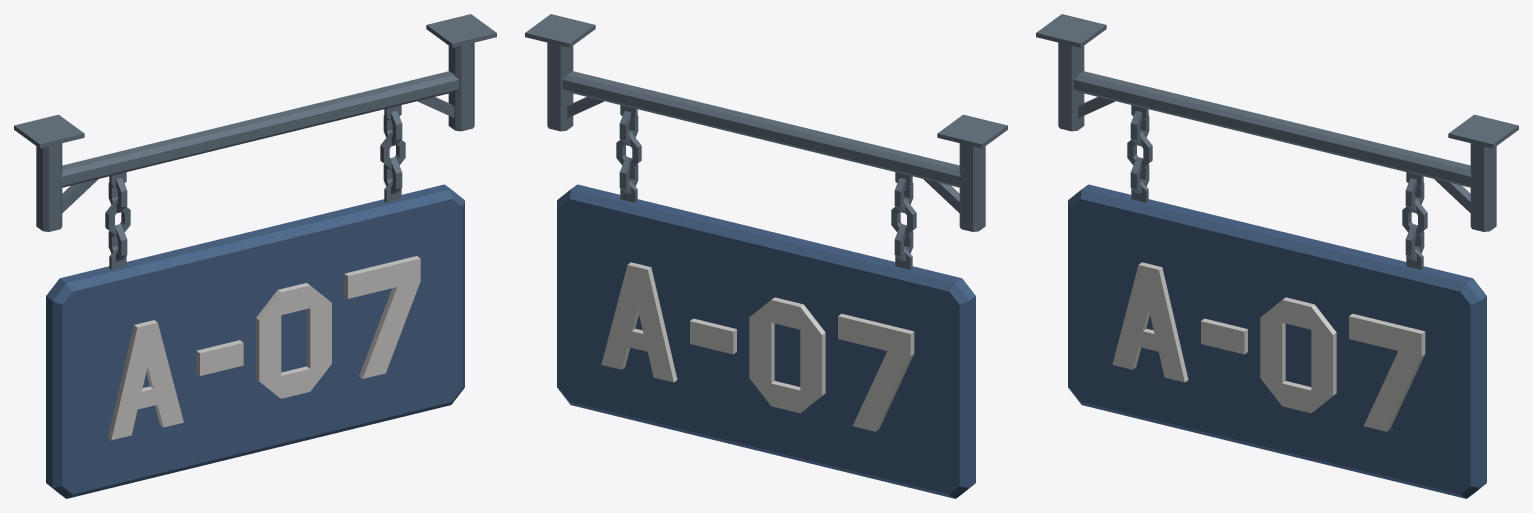
File: aisle-sign.glb
3 renders of one model, left to right at view 1: azimuth 30°, elevation 25°; view 2: azimuth 150°, elevation 25°; view 3: azimuth 330°, elevation 25°, orthographic.
Visible parts, largest first — view 1: frame; view 2: frame; view 3: frame.
Part boxes in pixels (x1,y1,x2,y2): frame: [14, 14, 496, 498]; frame: [525, 14, 1007, 498]; frame: [1036, 14, 1518, 498].
Size of the model in its own units: 1.33 by 1.03 by 0.13.
